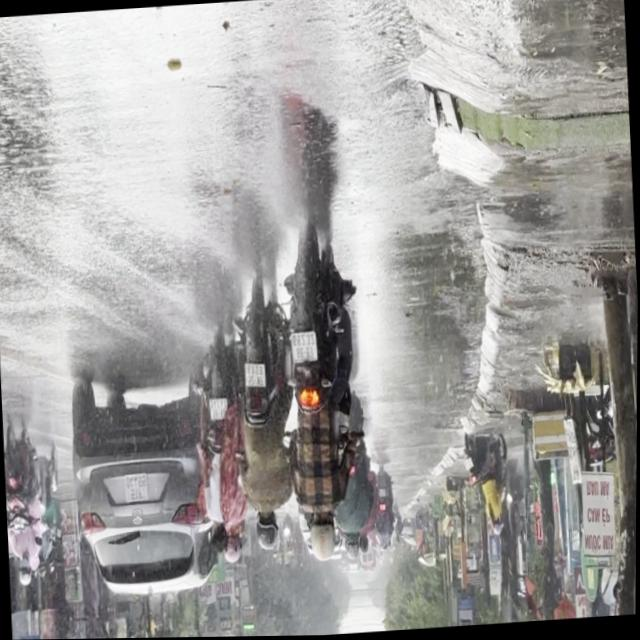helmet: (306, 513, 337, 564), (254, 513, 280, 554), (221, 529, 243, 566), (344, 535, 360, 564), (17, 557, 32, 587)
licenseplate: (275, 228, 374, 570), (228, 280, 303, 561), (189, 337, 253, 570), (1, 412, 47, 589)
motorcyclist: (210, 525, 225, 554)
nohelmet: (291, 333, 316, 363), (244, 363, 265, 389), (208, 399, 227, 421)
